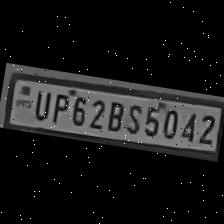0: (158, 103, 182, 139)
2: (194, 109, 218, 145), (84, 94, 107, 130)
4: (176, 107, 200, 141)
5: (140, 100, 163, 136)
6: (66, 90, 90, 127)
B: (103, 95, 127, 132)
P: (48, 88, 71, 124)
S: (122, 98, 145, 134)
U: (30, 85, 54, 121)
